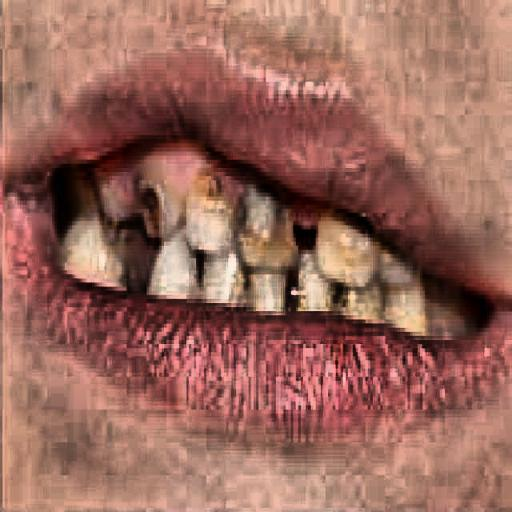Caries: (64, 148, 410, 321)
